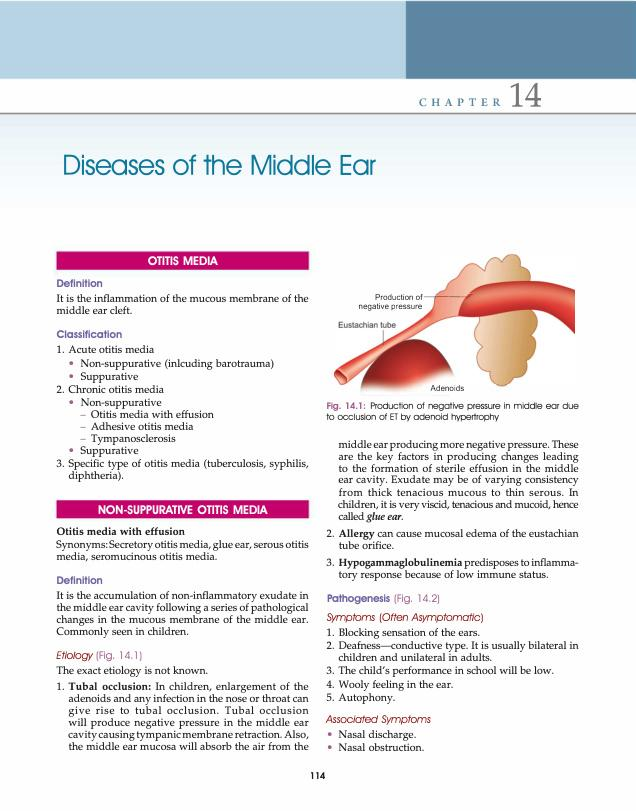caption: (325, 400, 580, 423)
chapter-heading: (61, 151, 377, 179)
image: (324, 247, 578, 398)
list: (325, 439, 581, 582), (55, 344, 309, 484), (325, 626, 580, 706), (56, 680, 310, 753), (68, 396, 216, 458), (67, 358, 275, 384), (78, 409, 215, 446), (326, 728, 425, 753)
section-heading: (97, 504, 270, 515), (147, 255, 219, 266)
sub-section-heading: (325, 611, 484, 624), (337, 557, 463, 570), (55, 525, 187, 536), (324, 714, 432, 726), (67, 680, 152, 691), (326, 593, 391, 605), (55, 329, 123, 339), (56, 278, 103, 289), (56, 574, 103, 585), (55, 650, 93, 662), (337, 528, 375, 540)
text: (55, 589, 310, 638), (55, 538, 310, 563), (55, 292, 309, 317), (54, 664, 210, 678)
